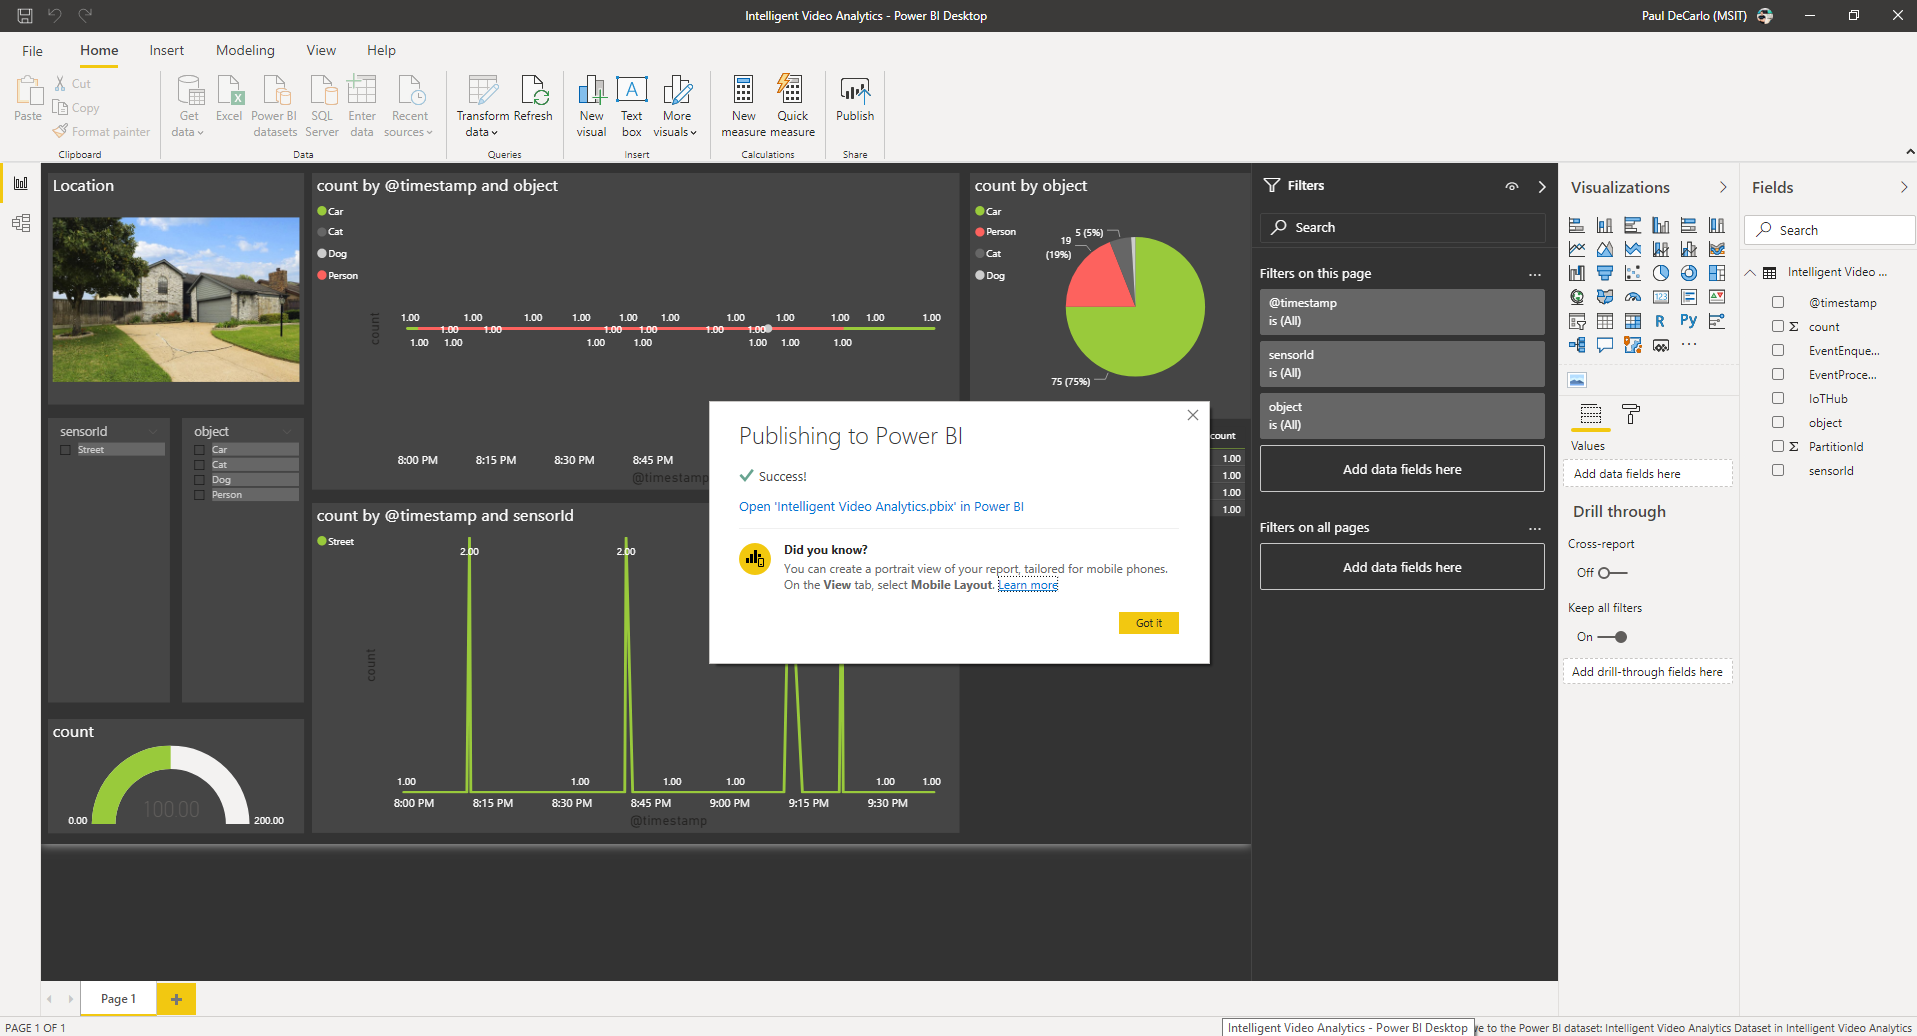

The dashboard page shown, as its layout file describes it:
{"tool":"powerbi","page":{"name":"Page 1","canvas":[1280,720],"ordinal":0},"visuals":[{"type":"tableEx","fields":{"Values":["AcceleratedEdge-ObjectDetections.sensorId","AcceleratedEdge-ObjectDetections.object","Max(AcceleratedEdge-ObjectDetections.count)"]},"box":[983.2,273.7,296.6,435.7],"z":0},{"type":"lineChart","fields":{"Series":["AcceleratedEdge-ObjectDetections.object"],"Category":["AcceleratedEdge-ObjectDetections.@timestamp"],"Y":["Sum(AcceleratedEdge-ObjectDetections.count)"]},"box":[286.9,10.6,684.8,335.4],"z":1000},{"type":"image","title":"3303 Meadway Dr. Houston, TX","box":[7,10.6,271.1,244.7],"z":2000},{"type":"gauge","fields":{"Y":["Sum(AcceleratedEdge-ObjectDetections.count)"]},"box":[7,588,271.1,121.5],"z":3000},{"type":"pieChart","fields":{"Category":["AcceleratedEdge-ObjectDetections.object"],"Y":["Sum(AcceleratedEdge-ObjectDetections.count)"]},"box":[983.3,10.2,296.7,259.5],"z":4000},{"type":"slicer","fields":{"Values":["AcceleratedEdge-ObjectDetections.sensorId"]},"box":[7,270.2,129.4,301],"z":5000},{"type":"slicer","fields":{"Values":["AcceleratedEdge-ObjectDetections.object"]},"box":[148.8,270.2,129.4,301],"z":6000},{"type":"lineChart","fields":{"Y":["Sum(AcceleratedEdge-ObjectDetections.count)"],"Category":["AcceleratedEdge-ObjectDetections.@timestamp"],"Series":["AcceleratedEdge-ObjectDetections.sensorId"]},"box":[286.9,360,684.8,349.4],"z":7000}]}

Visuals, with their boxes in screenshot pixels (x1, y1, x2, y2):
tableEx - AcceleratedEdge-ObjectDetections.sensorId x AcceleratedEdge-ObjectDetections.object: x1=1563, y1=385, x2=1916, y2=983
lineChart - AcceleratedEdge-ObjectDetections.object x AcceleratedEdge-ObjectDetections.@timestamp: x1=608, y1=25, x2=1548, y2=485
"3303 Meadway Dr. Houston, TX" image: x1=224, y1=25, x2=596, y2=360
gauge - Sum(AcceleratedEdge-ObjectDetections.count): x1=224, y1=817, x2=596, y2=983
pieChart - AcceleratedEdge-ObjectDetections.object x Sum(AcceleratedEdge-ObjectDetections.count): x1=1564, y1=24, x2=1916, y2=380
slicer - AcceleratedEdge-ObjectDetections.sensorId: x1=224, y1=381, x2=402, y2=794
slicer - AcceleratedEdge-ObjectDetections.object: x1=419, y1=381, x2=596, y2=794
lineChart - Sum(AcceleratedEdge-ObjectDetections.count) x AcceleratedEdge-ObjectDetections.@timestamp: x1=608, y1=504, x2=1548, y2=983
